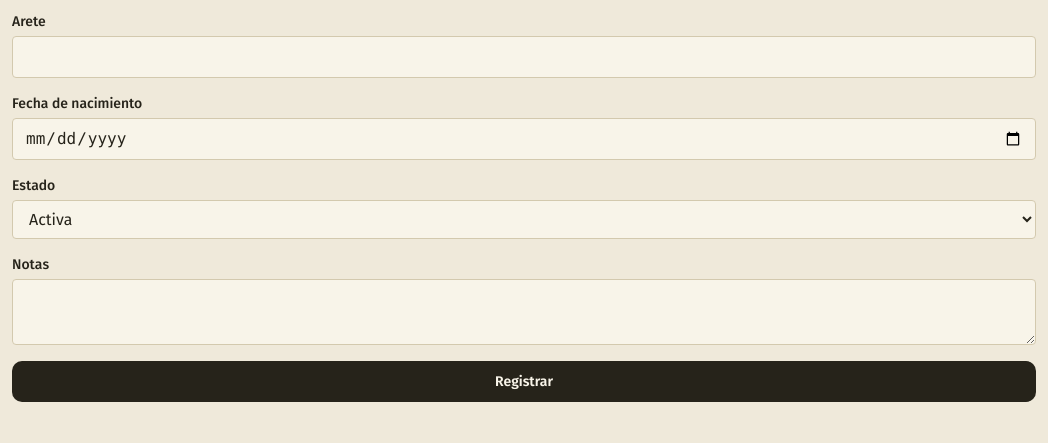
SowForm › displays the name validation error returned by the action
What coordinates should you click on to do the following:
click the button "Registrar"
I would click on:
 (524, 382)
Its box is [12,361,1036,402].
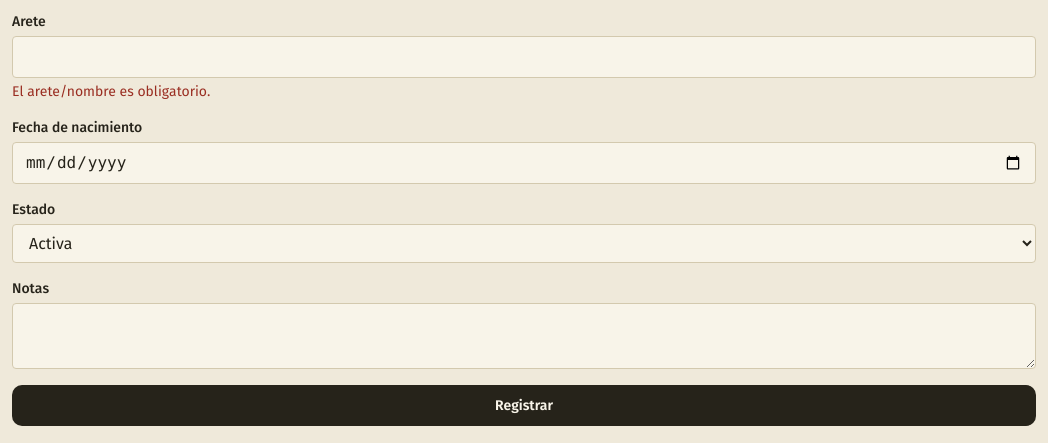
Expected: the message reads "El arete/nombre es obligatorio.", [12,83,210,100]
